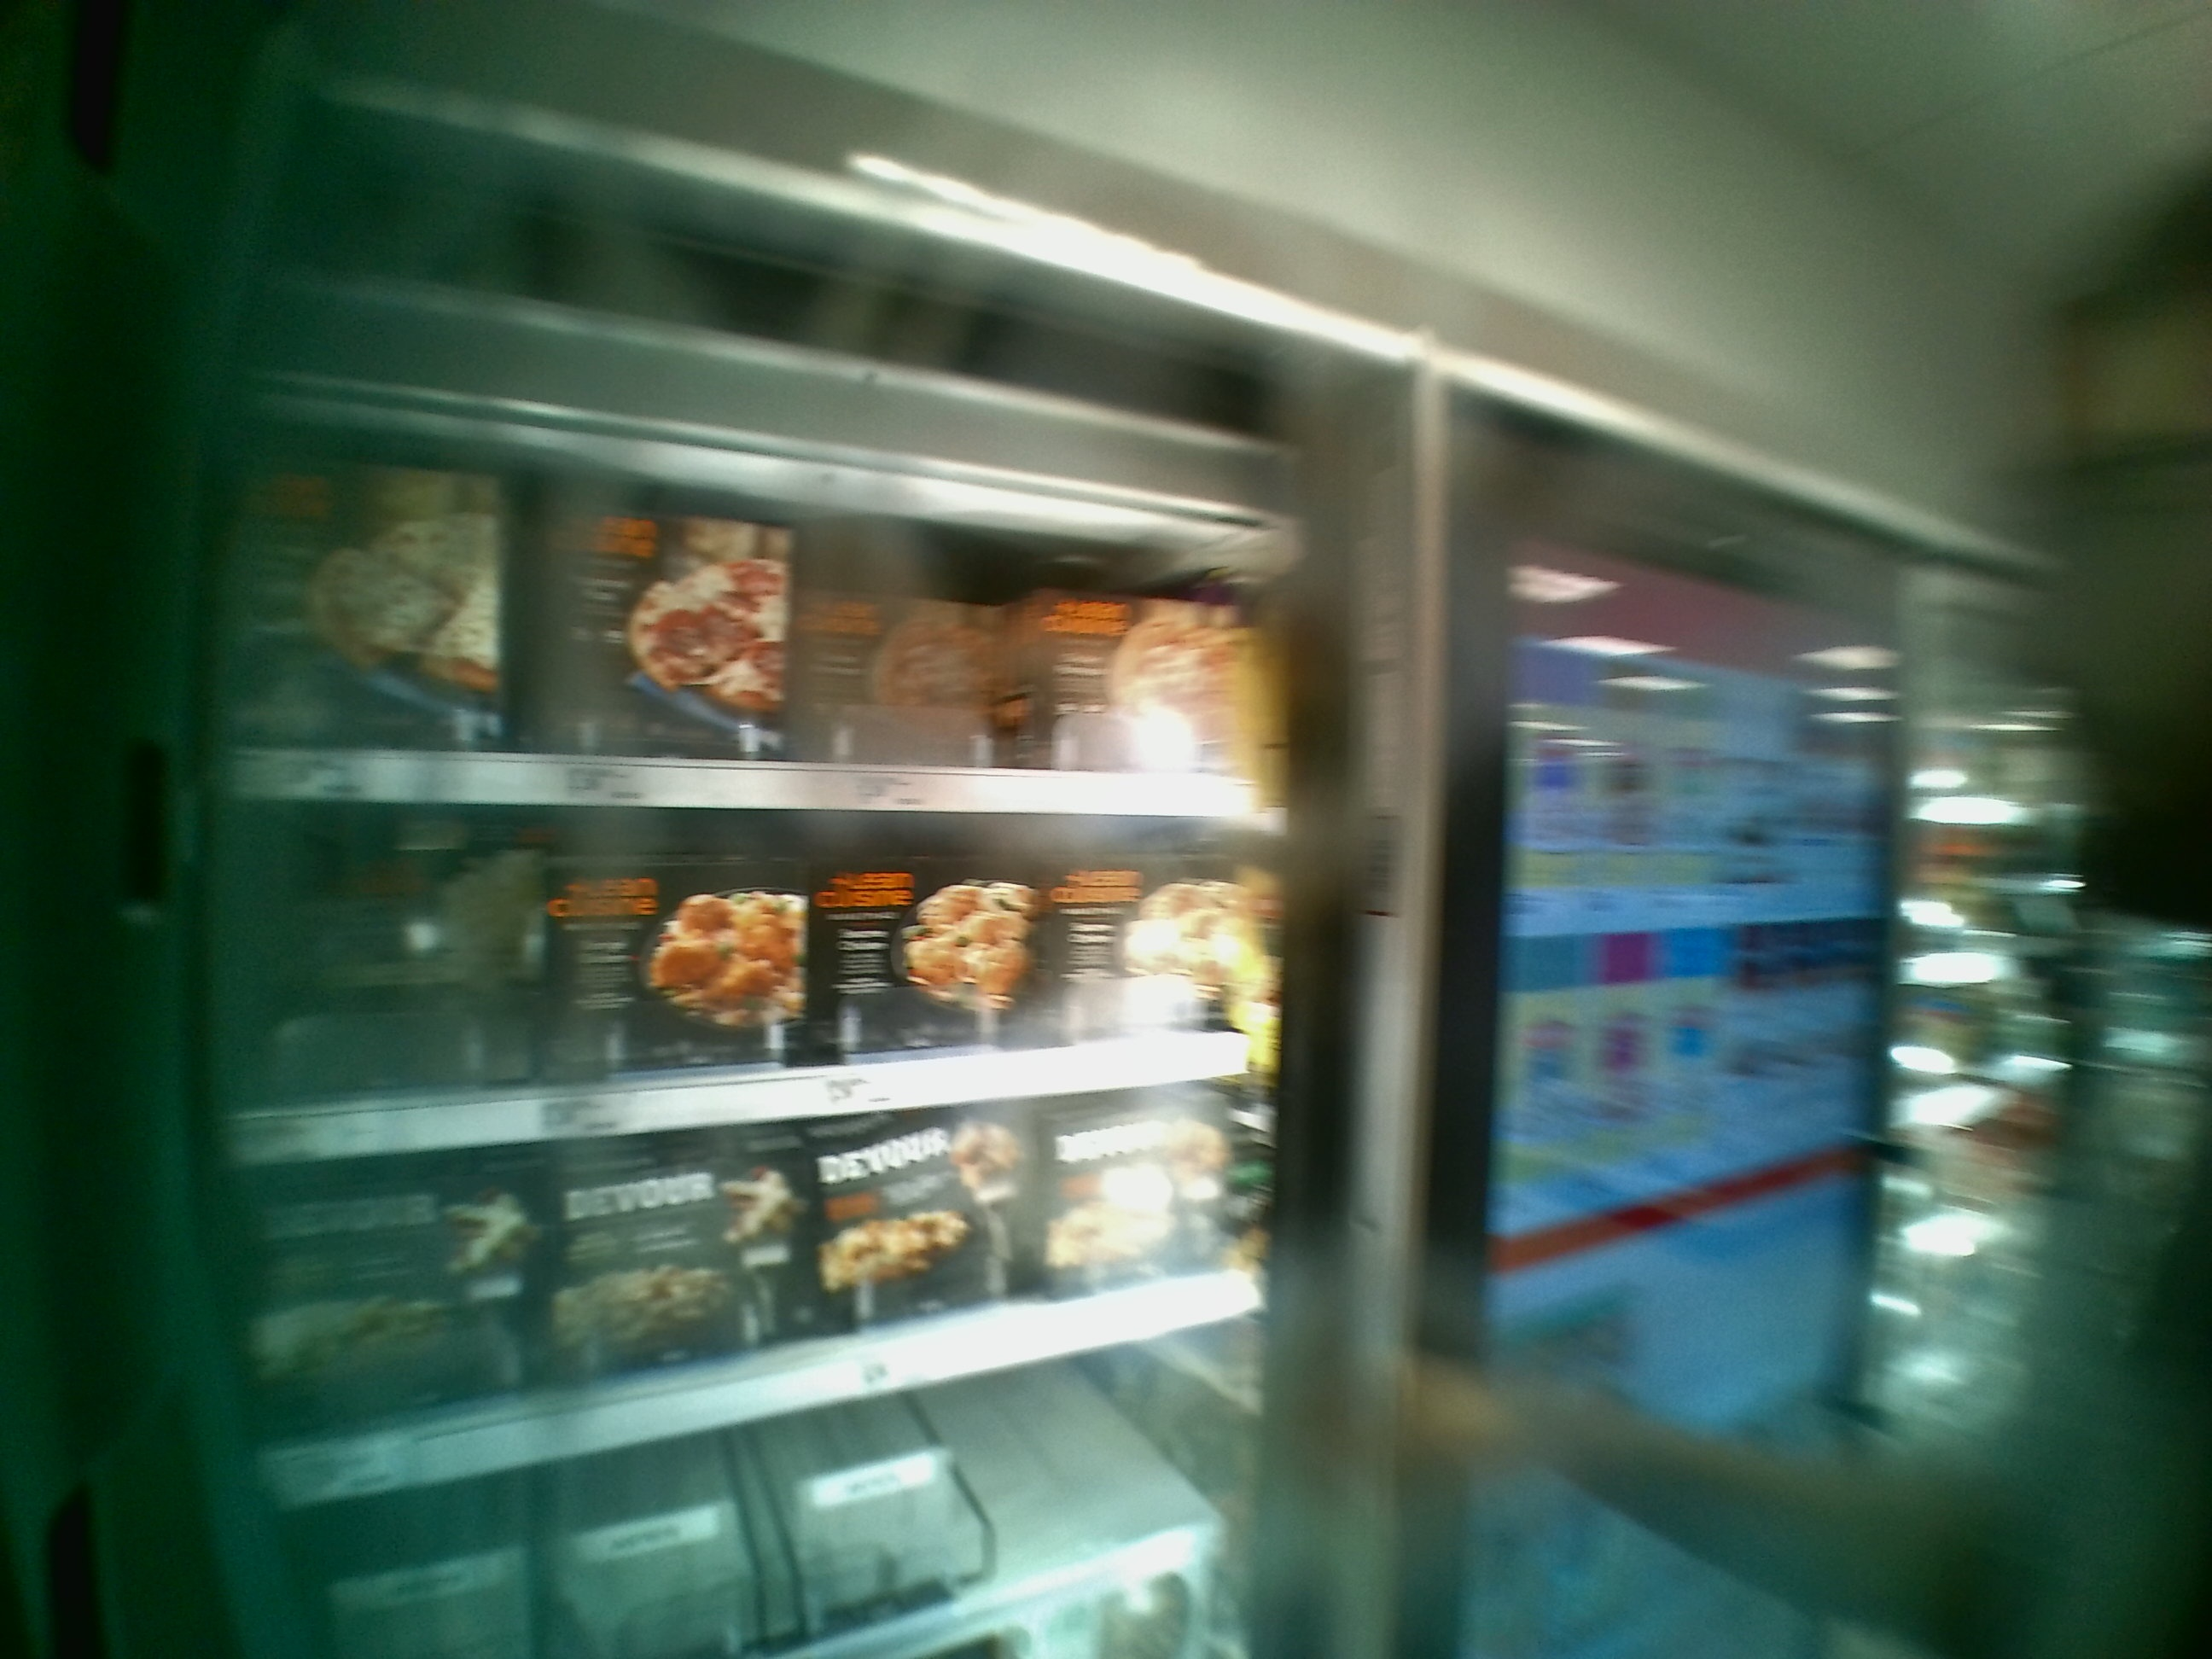shelf: (246, 408, 1268, 819), (223, 802, 1273, 1155)
